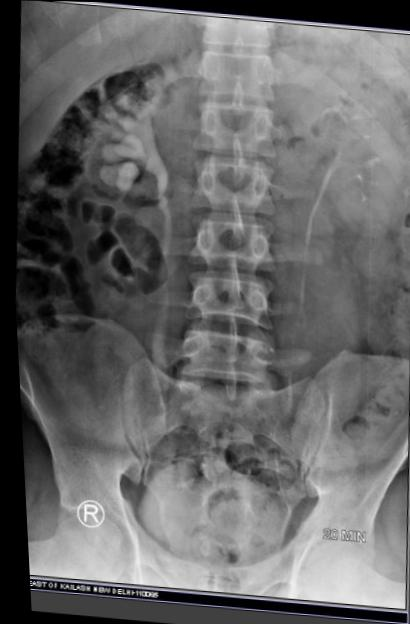bladder: (132, 466, 318, 605)
left kidney: (331, 62, 409, 248)
right kidney: (39, 46, 200, 229)
vertebrae: (203, 90, 302, 160)
